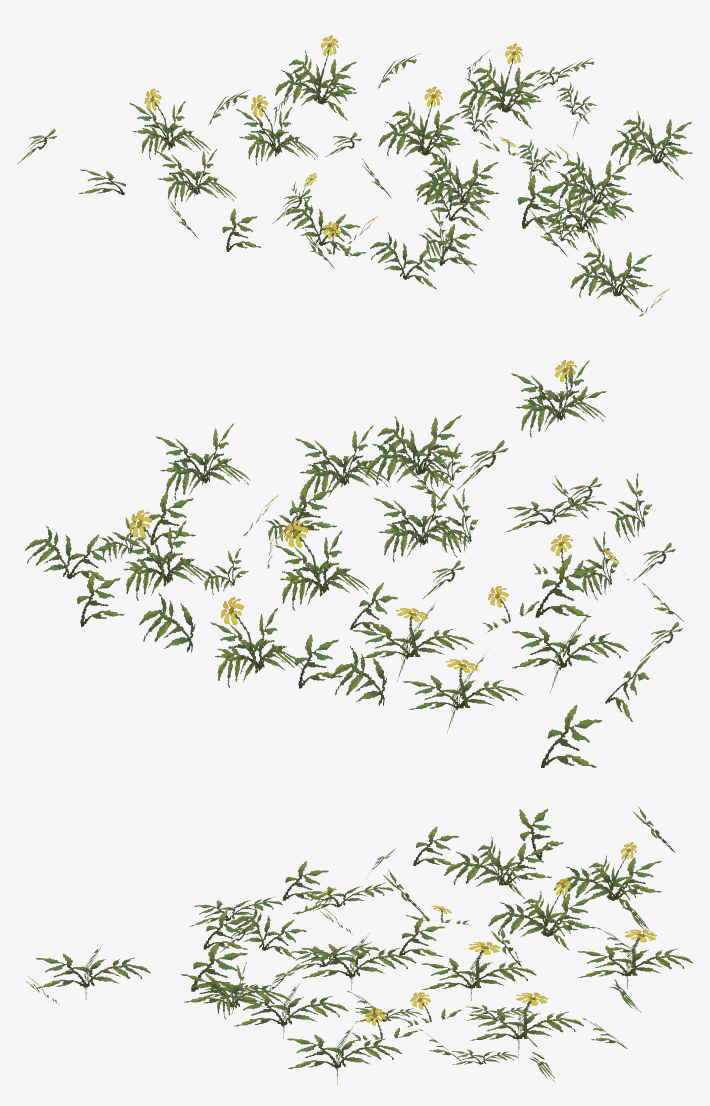
Rendered from grs_flower_01.glb.
The picture shows the model from 3 angles, top to bottom: view 1: azimuth 30°, elevation 25°; view 2: azimuth 150°, elevation 25°; view 3: azimuth 270°, elevation 25°; orthographic projection. The views are drawn at different scales.
Visible parts, largest first — view 1: grs_flower_01; view 2: grs_flower_01; view 3: grs_flower_01.
Part boxes in pixels (x1,y1,x2,y2): grs_flower_01: (17,35,692,316); grs_flower_01: (25,360,683,767); grs_flower_01: (26,806,692,1084).
Size of the model in its own units: 7.49 by 0.8233 by 8.39.
Materials: 1 (1 with a texture image).
